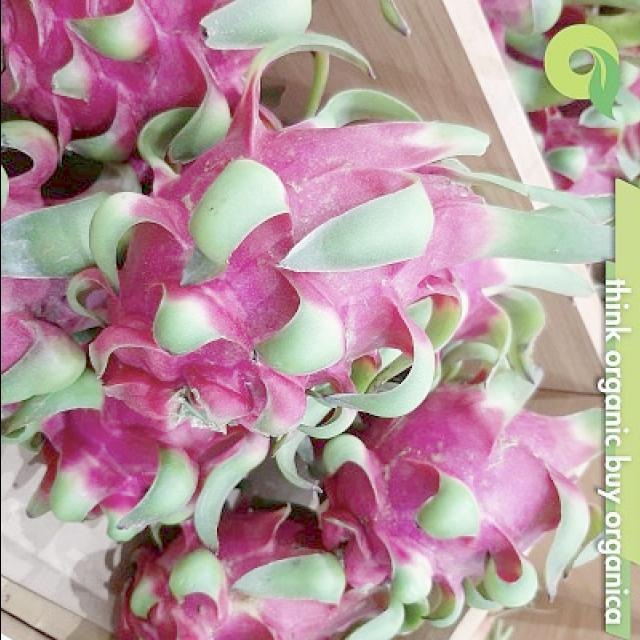do: (106, 97, 518, 435), (330, 362, 610, 602), (1, 0, 309, 135), (125, 492, 384, 638), (21, 378, 271, 522), (1, 154, 105, 414)
